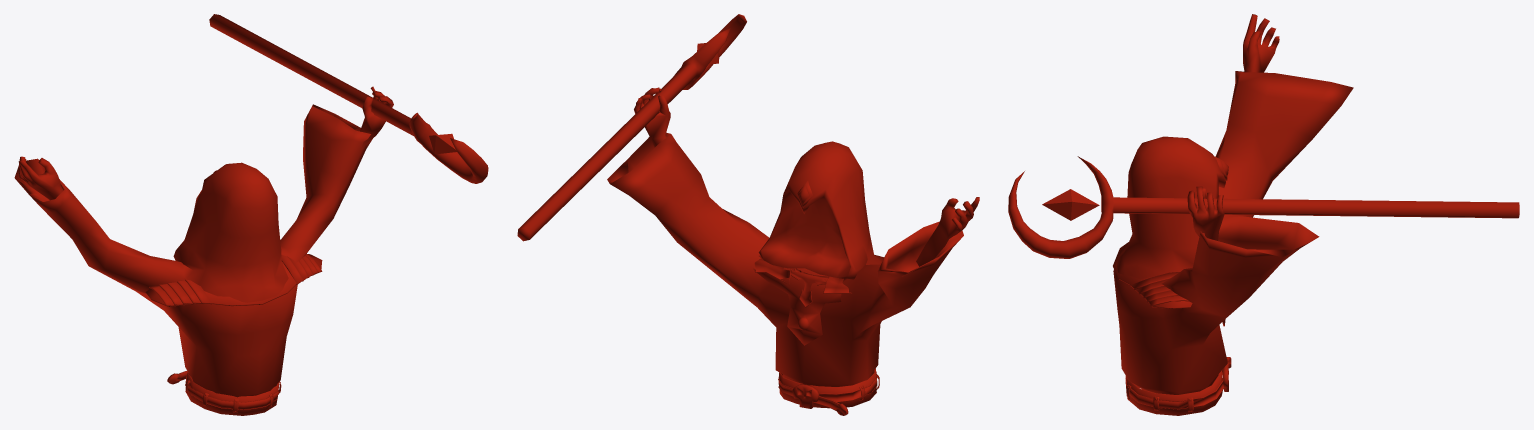
Rendered from top_000027.obj.
3 views of the same model, side by side, from view 1: azimuth 30°, elevation 25°; view 2: azimuth 150°, elevation 25°; view 3: azimuth 270°, elevation 25° (orthographic). The views are drawn at different scales.
Visible parts, largest first — view 1: LowPoly_Warlock.000_Plane.005; view 2: LowPoly_Warlock.000_Plane.005; view 3: LowPoly_Warlock.000_Plane.005.
Part boxes in pixels (x1,y1,x2,y2): LowPoly_Warlock.000_Plane.005: (14,14,488,415); LowPoly_Warlock.000_Plane.005: (517,14,979,415); LowPoly_Warlock.000_Plane.005: (1008,14,1519,415).
Bounding box in the file's own units: 1.77 × 1.29 × 1.9.
